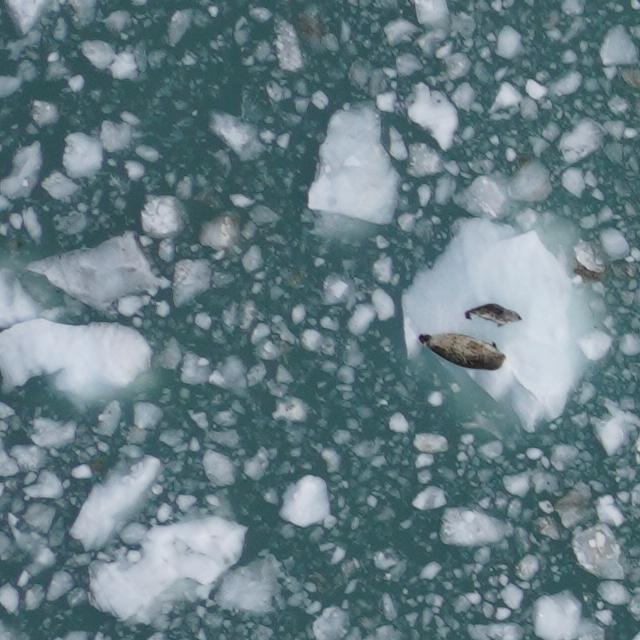seal: (413, 322, 509, 379), (464, 296, 525, 335)
